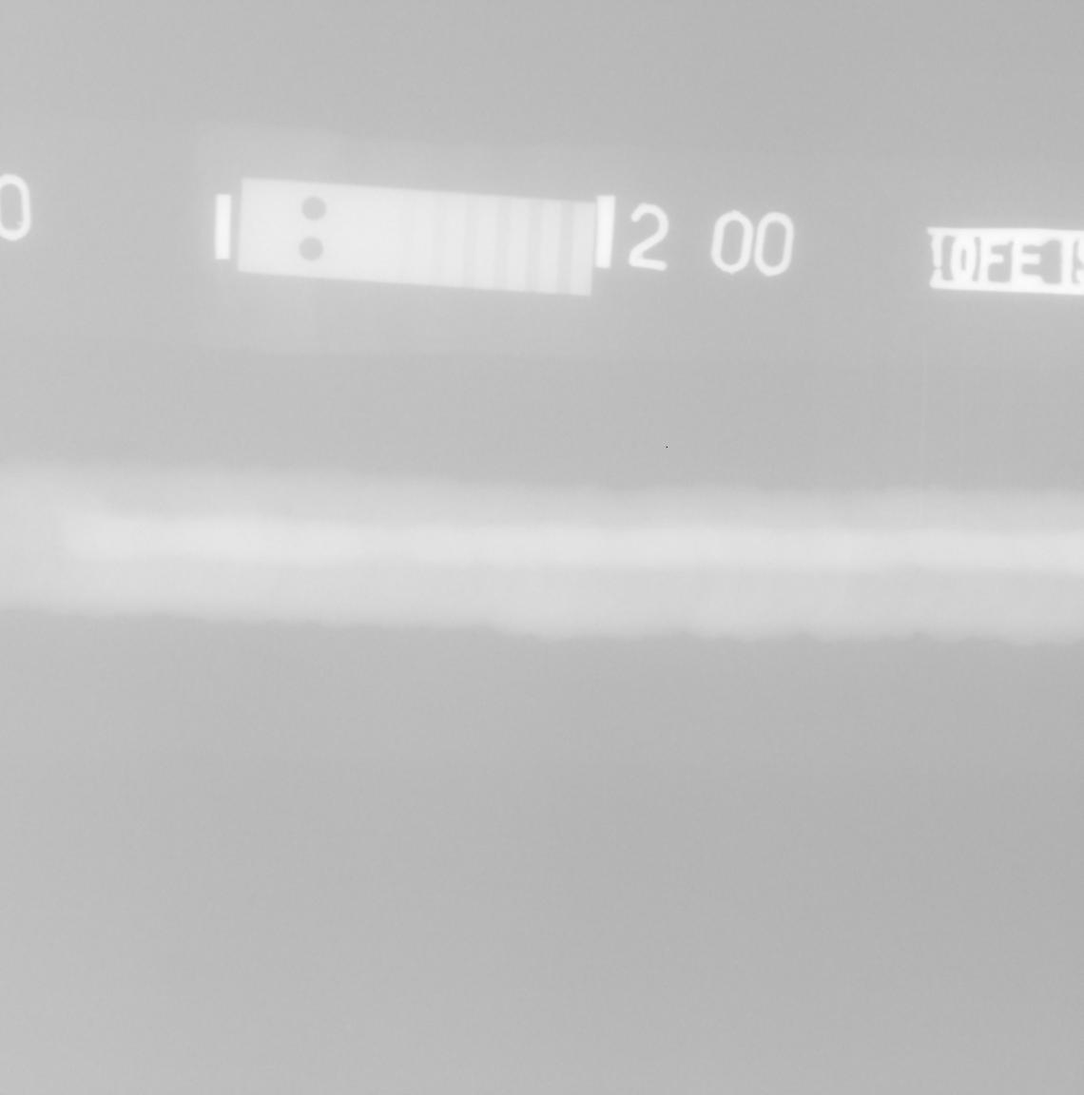Reference Standard 2: (234, 176, 595, 298)
